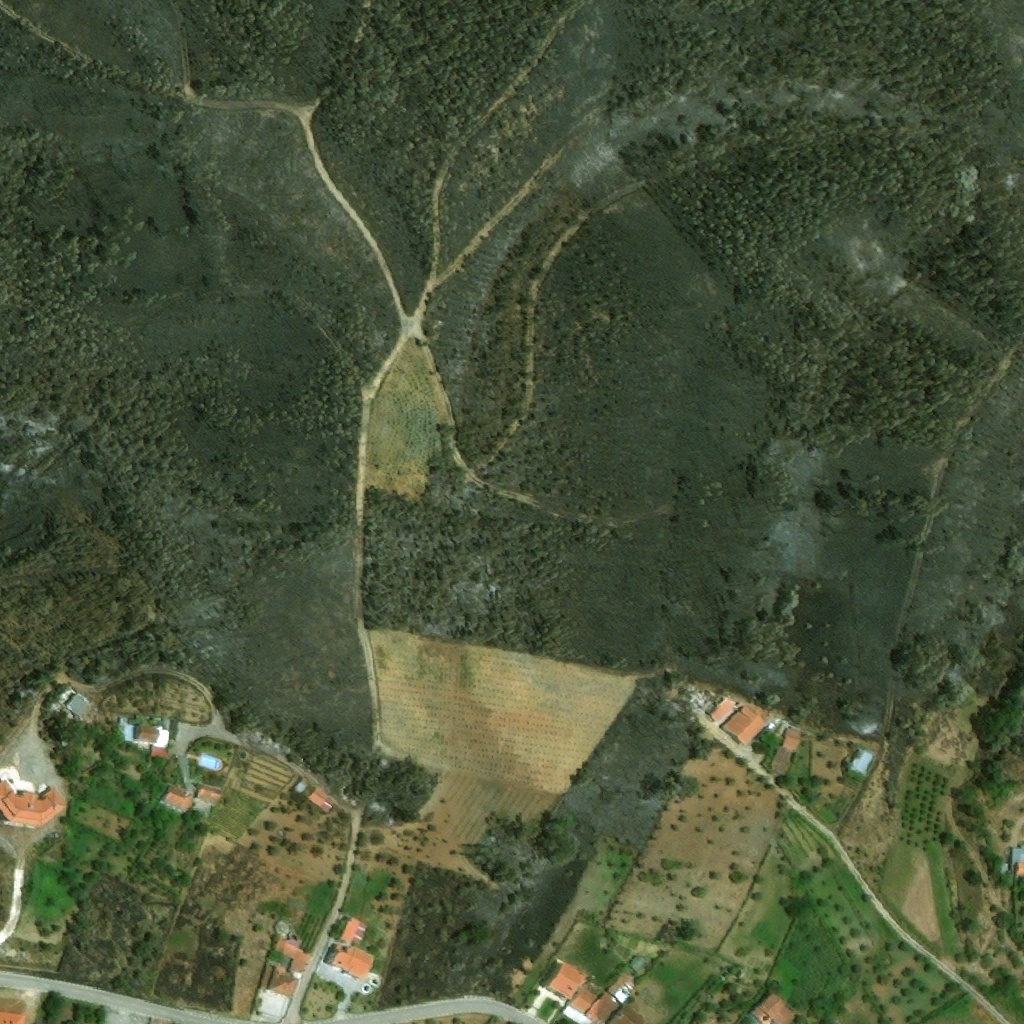0 no-damage: (0, 779, 71, 826), (718, 702, 775, 747), (48, 684, 93, 728), (544, 959, 590, 1002), (327, 946, 378, 982), (748, 988, 799, 1023), (117, 716, 170, 748), (764, 735, 801, 778), (258, 963, 299, 1000), (272, 938, 312, 974), (253, 987, 292, 1020), (336, 914, 369, 947), (585, 992, 619, 1023), (159, 784, 194, 812), (570, 985, 599, 1014), (846, 746, 875, 775), (608, 971, 639, 996), (607, 1004, 647, 1023), (307, 787, 335, 813), (196, 782, 226, 806), (628, 954, 647, 973), (0, 1011, 27, 1023), (784, 727, 805, 740), (293, 776, 309, 792), (1009, 846, 1023, 864), (149, 748, 168, 759), (997, 862, 1009, 876)
2 major-damage: (687, 686, 737, 723)
4 un-classified: (1015, 864, 1023, 877)
